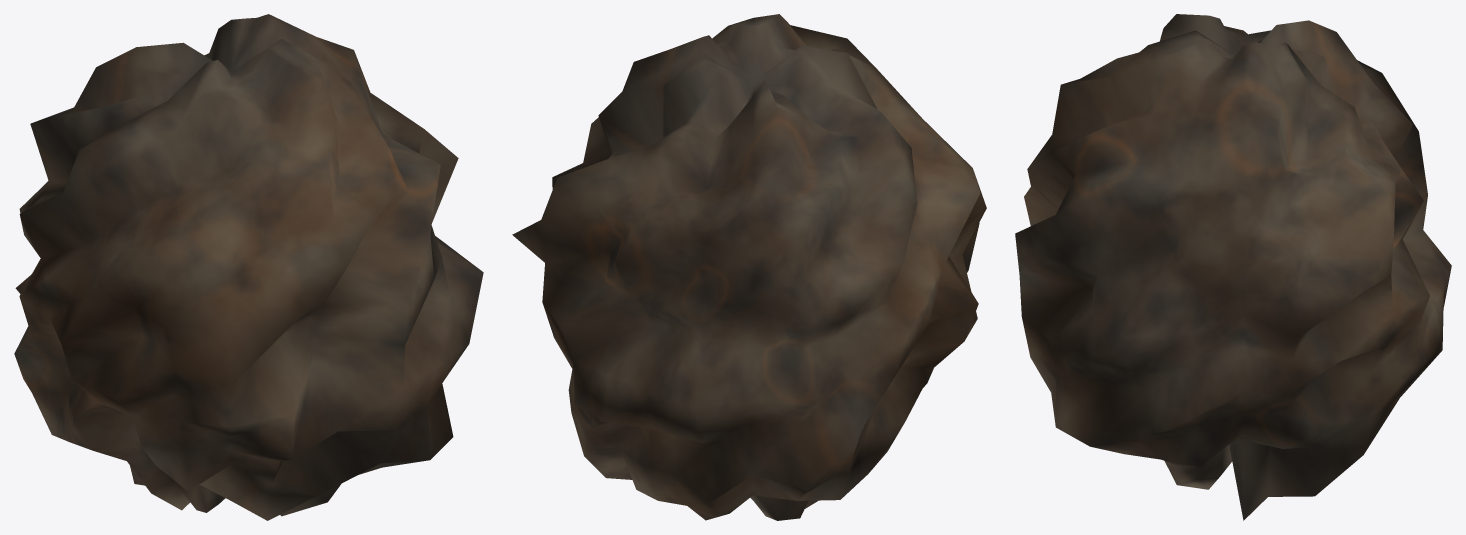
The model's file is asteroid_big.obj.
3 renders of one model, left to right at view 1: azimuth 30°, elevation 25°; view 2: azimuth 150°, elevation 25°; view 3: azimuth 270°, elevation 25°, orthographic. The views are drawn at different scales.
Visible parts, largest first — view 1: asteroid_big; view 2: asteroid_big; view 3: asteroid_big.
Boxes of the visible parts, x1,y1,x2,y2 form: asteroid_big: [14, 14, 483, 520]; asteroid_big: [512, 14, 986, 520]; asteroid_big: [1015, 14, 1451, 520].
Size of the model in its own units: 1.6 by 1.86 by 1.61.
Materials: 1 (1 with a texture image).
